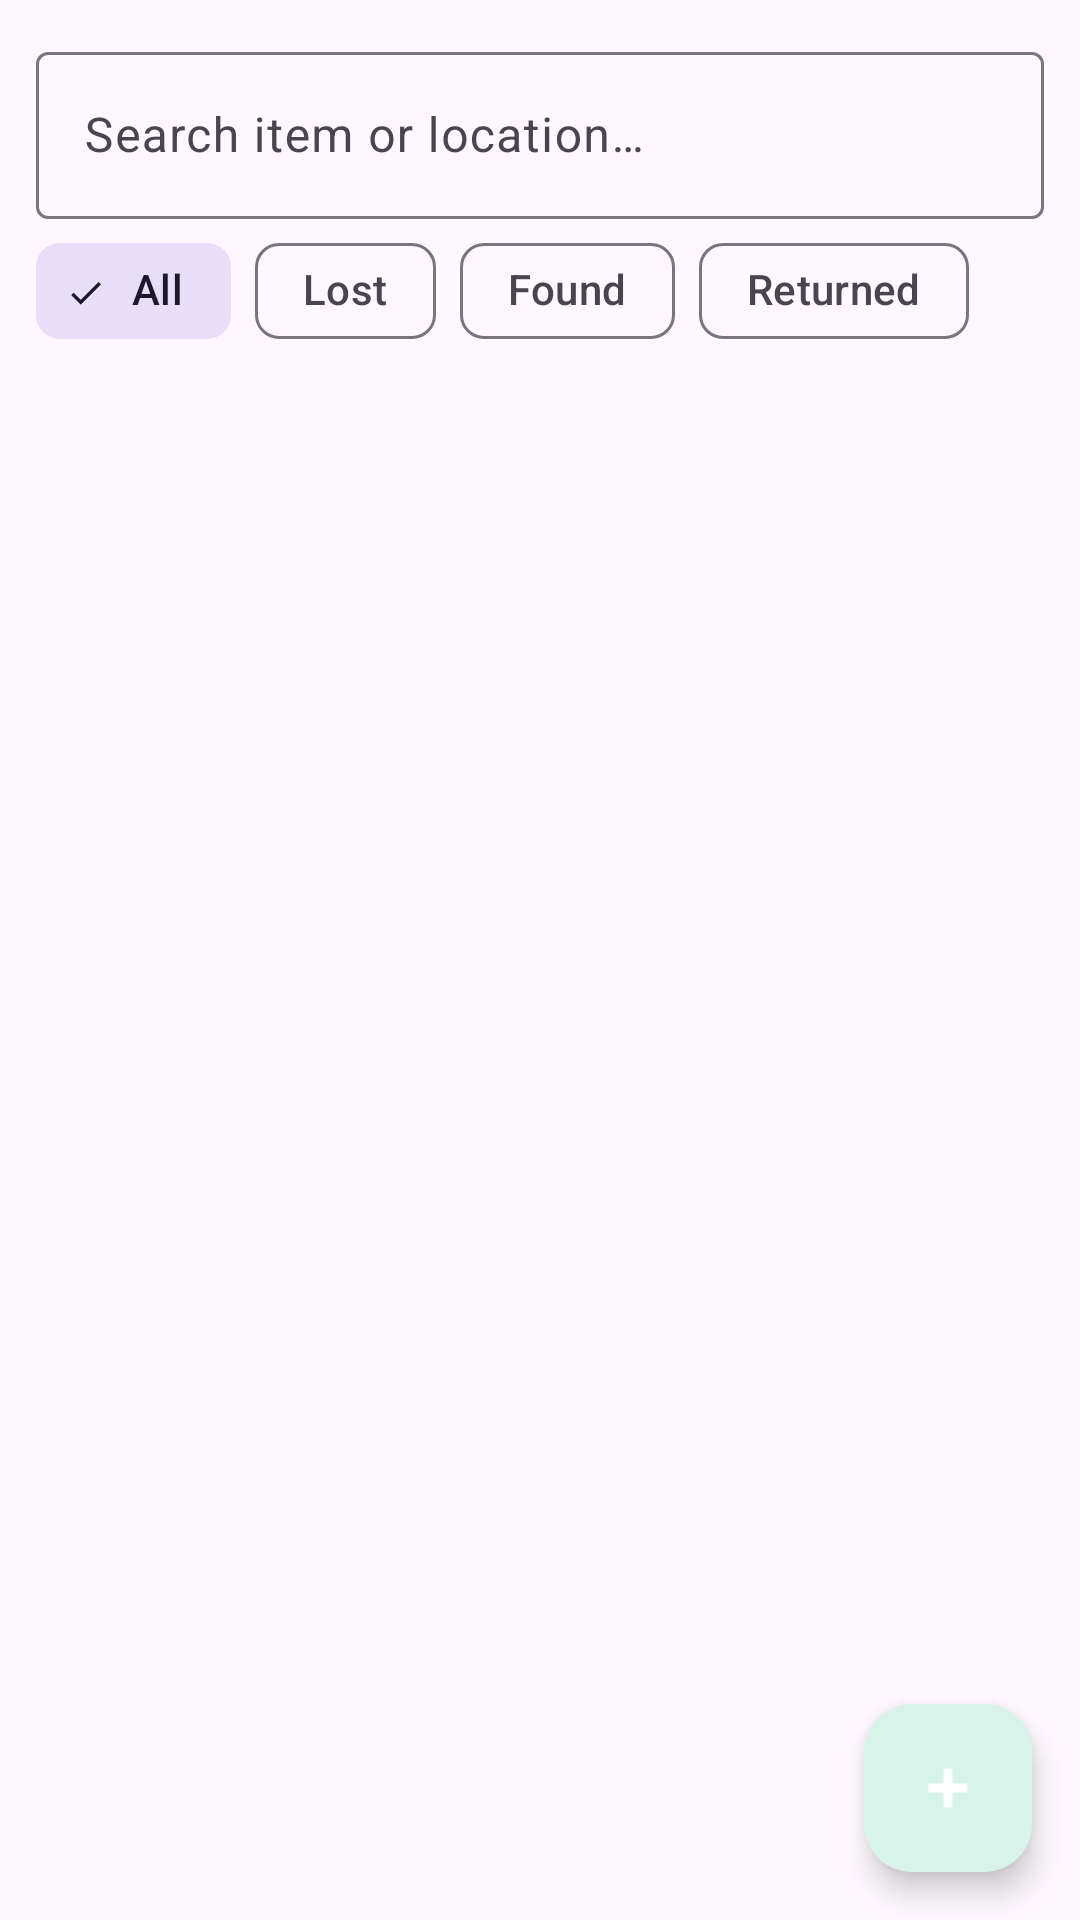

Screen size 1080px x 1920px. Icon name, then its box in pixels as bbox=(x1, y1, x2, y2):
Report an item: bbox=(864, 1704, 1032, 1872)
